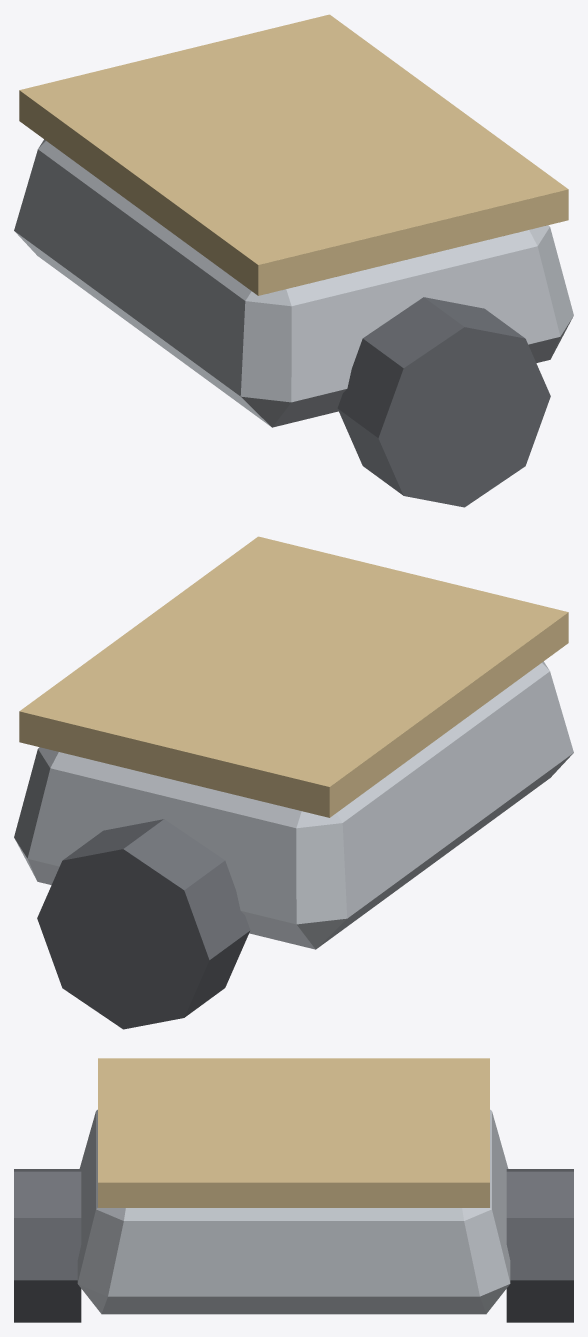
The model's file is bastion.shoulder_pod.glb.
The picture shows the model from 3 angles, top to bottom: view 1: azimuth 30°, elevation 25°; view 2: azimuth 150°, elevation 25°; view 3: azimuth 270°, elevation 25°; orthographic projection. The views are drawn at different scales.
Bounding box in the file's own units: 1.35 × 0.942 × 2.4.
